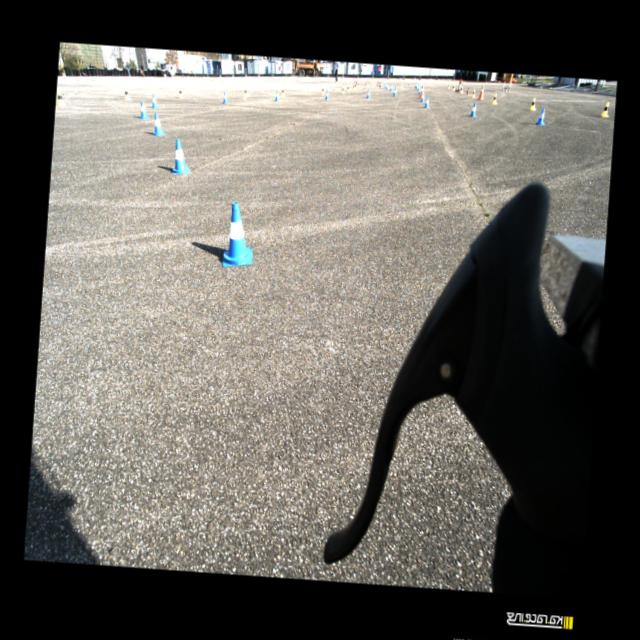Cono de seguridad: (222, 200, 256, 268), (172, 138, 192, 175), (151, 112, 167, 136), (138, 100, 151, 120), (535, 107, 546, 125), (600, 101, 610, 117), (150, 94, 160, 108), (56, 90, 64, 106), (468, 102, 477, 116), (477, 84, 485, 99), (529, 97, 536, 111), (124, 88, 132, 100), (222, 91, 228, 104), (273, 90, 280, 101), (418, 84, 423, 99), (492, 92, 498, 104), (178, 88, 184, 99), (424, 96, 429, 108), (324, 90, 330, 100), (470, 88, 476, 98), (420, 92, 426, 102), (243, 86, 248, 96), (366, 89, 371, 98), (459, 85, 464, 94), (281, 87, 286, 96), (392, 88, 397, 96), (320, 86, 324, 95), (388, 84, 392, 92), (418, 86, 421, 94), (447, 82, 450, 89), (341, 86, 344, 93), (347, 85, 350, 92), (452, 84, 455, 90), (352, 84, 355, 90), (378, 81, 381, 87), (394, 85, 396, 94), (386, 82, 388, 90), (384, 82, 386, 89), (415, 81, 417, 88), (380, 82, 382, 88), (376, 80, 378, 86), (417, 84, 419, 90), (364, 80, 366, 85), (358, 82, 360, 86), (356, 81, 356, 86)
